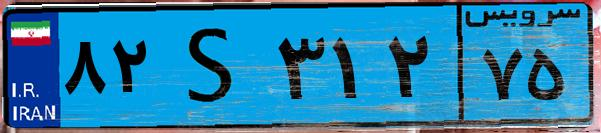1: (330, 28, 385, 110)
2: (385, 28, 445, 110), (110, 28, 158, 98)
3: (270, 28, 330, 110)
5: (525, 38, 570, 115)
7: (475, 38, 525, 113)
8: (57, 26, 110, 100)
S: (158, 12, 270, 120)
